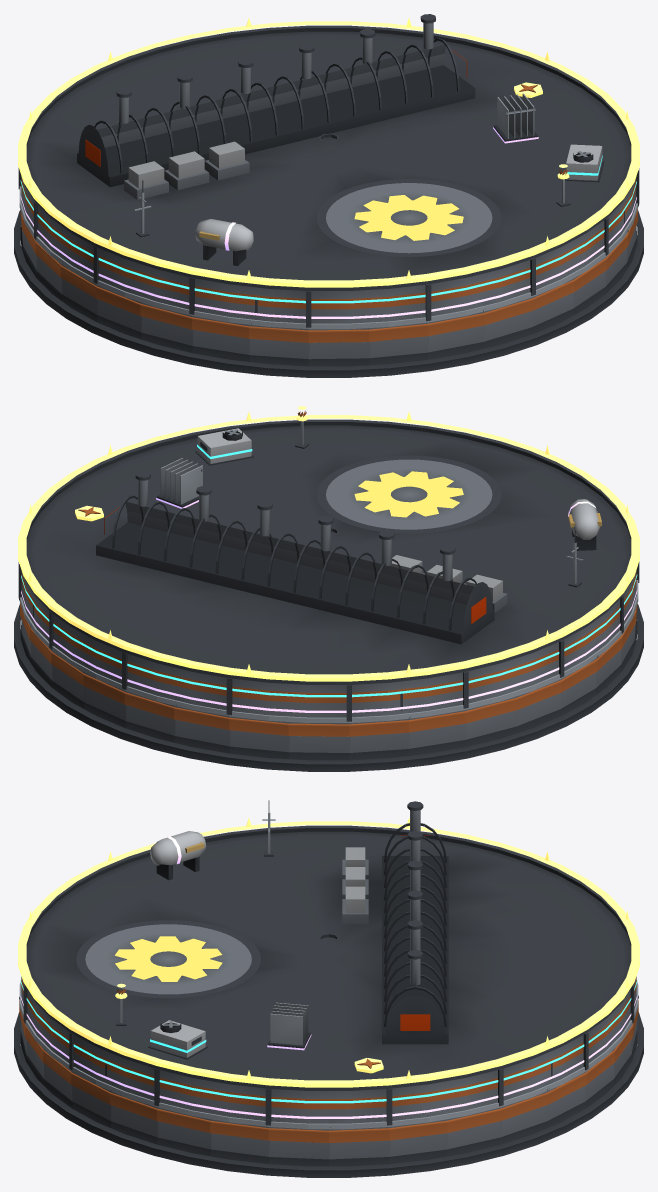
The model's file is ceramics_kiln_l_far.glb.
3 views of the same model, one above another, from view 1: azimuth 30°, elevation 25°; view 2: azimuth 150°, elevation 25°; view 3: azimuth 270°, elevation 25° (orthographic).
Visible parts, largest first — view 1: Roof, Base, L5, L4, L2, L3; view 2: Roof, Base, L5, L4, L2, L3; view 3: Roof, Base, L5, L4, L2, L3.
Part boxes in pixels (x1,y1,x2,y2): Roof: (18, 14, 639, 327); Base: (14, 209, 643, 377); L5: (18, 18, 639, 287); L4: (20, 93, 636, 318); L2: (19, 180, 638, 329); L3: (20, 133, 636, 303); Roof: (18, 419, 639, 721); Base: (14, 603, 643, 771); L5: (18, 406, 639, 681); L4: (21, 458, 637, 712); L2: (19, 530, 638, 722); L3: (21, 428, 637, 697); Roof: (21, 801, 636, 1125); Base: (14, 995, 643, 1177); L5: (18, 818, 639, 1087); L4: (20, 831, 637, 1118); L2: (19, 800, 638, 1129); L3: (20, 933, 637, 1103).
Size of the model in its own units: 18.96 by 5.35 by 18.96.
